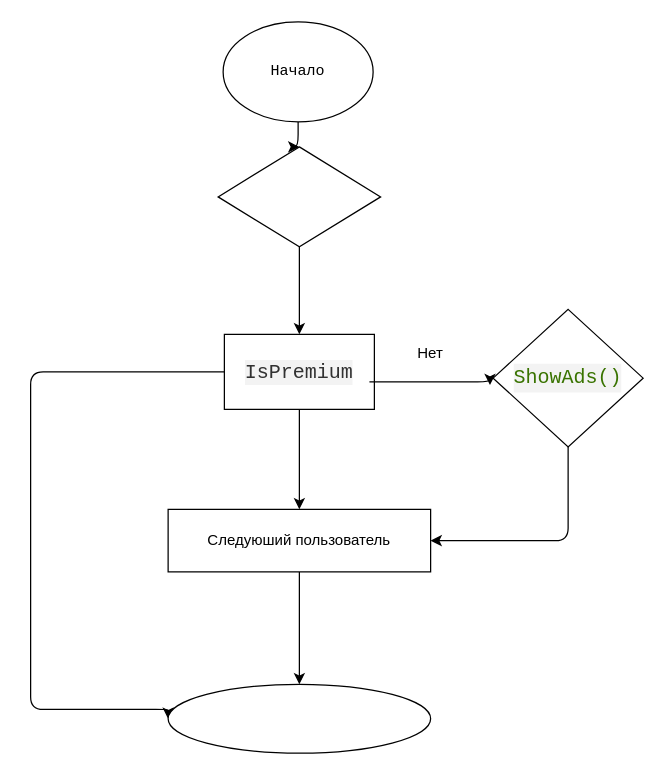
Some shapes in this 665 by 775 pixel diagram are drawn without their labels. Each missing label, with the box of its shape:
"Привет {name}": (217, 146, 381, 247)
Конец: (167, 683, 431, 753)
